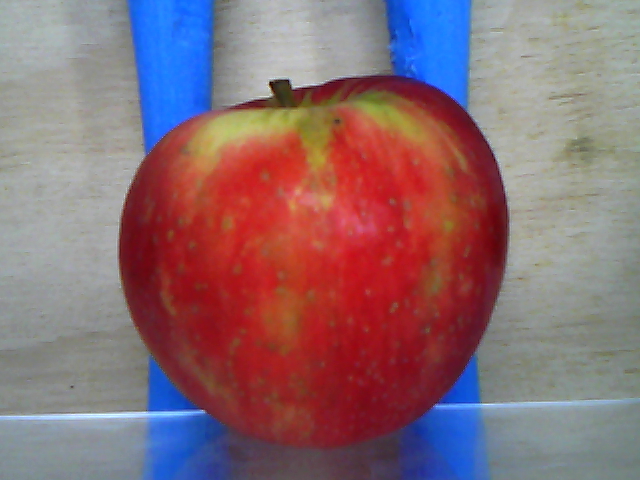stem: (268, 78, 292, 105)
